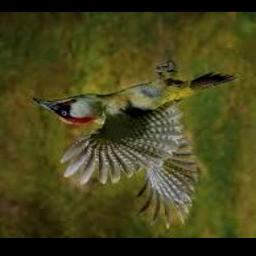Woodpecker: (32, 61, 239, 229)
